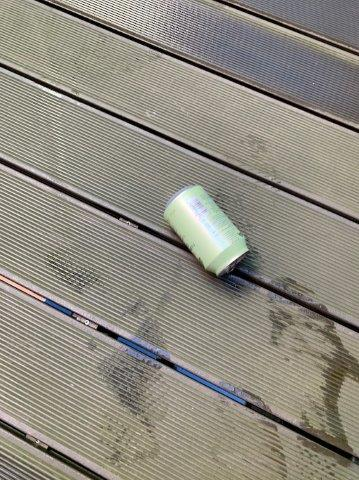kaleng: (164, 186, 248, 273)
